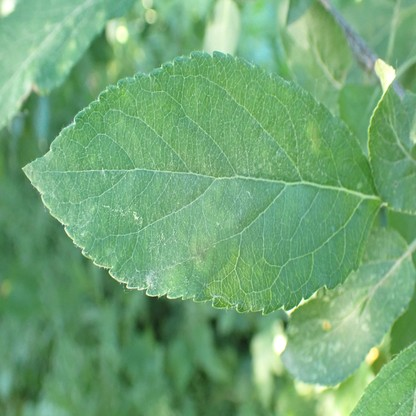powdery_mildew: (146, 269, 158, 288)
rust: (322, 318, 331, 331)
scab: (190, 232, 215, 271), (305, 122, 321, 158)
